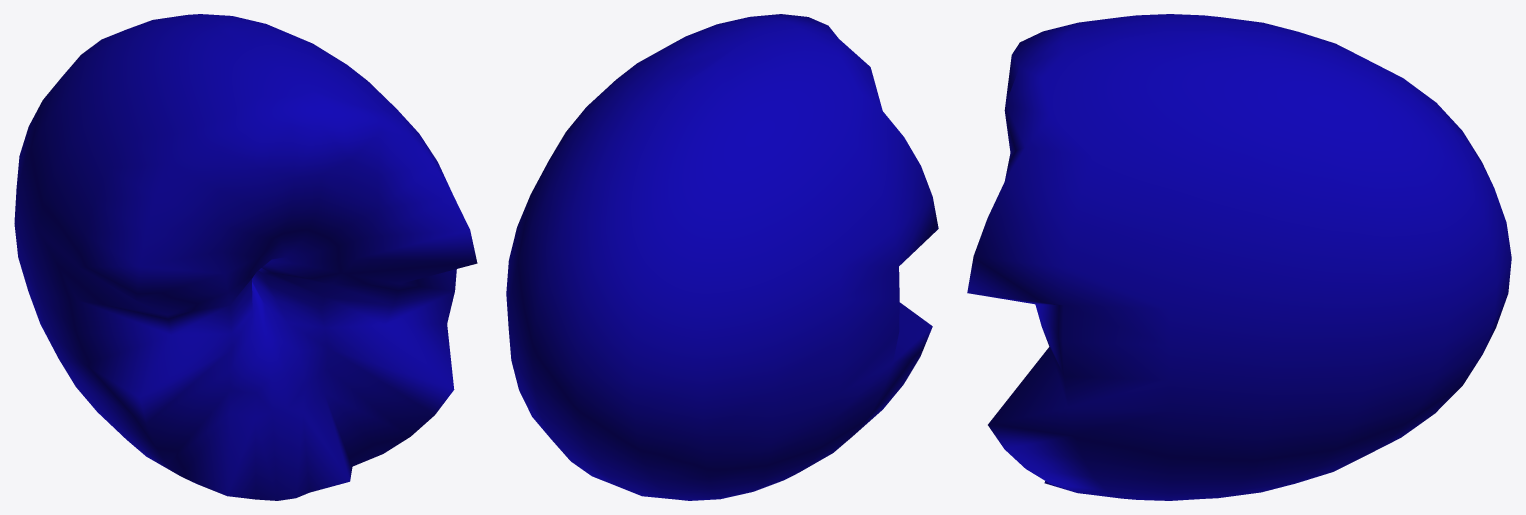
File: head.obj
The picture shows the model from 3 angles, left to right: view 1: azimuth 30°, elevation 25°; view 2: azimuth 150°, elevation 25°; view 3: azimuth 270°, elevation 25°; orthographic projection. The views are drawn at different scales.
Visible parts, largest first — view 1: pSphere1; view 2: pSphere1; view 3: pSphere1.
Boxes of the visible parts, box(x1,y1,x2,y2) form: pSphere1: box(14, 14, 477, 500); pSphere1: box(506, 14, 938, 500); pSphere1: box(967, 14, 1511, 500).
Size of the model in its own units: 3.87 by 4.63 by 5.07.
